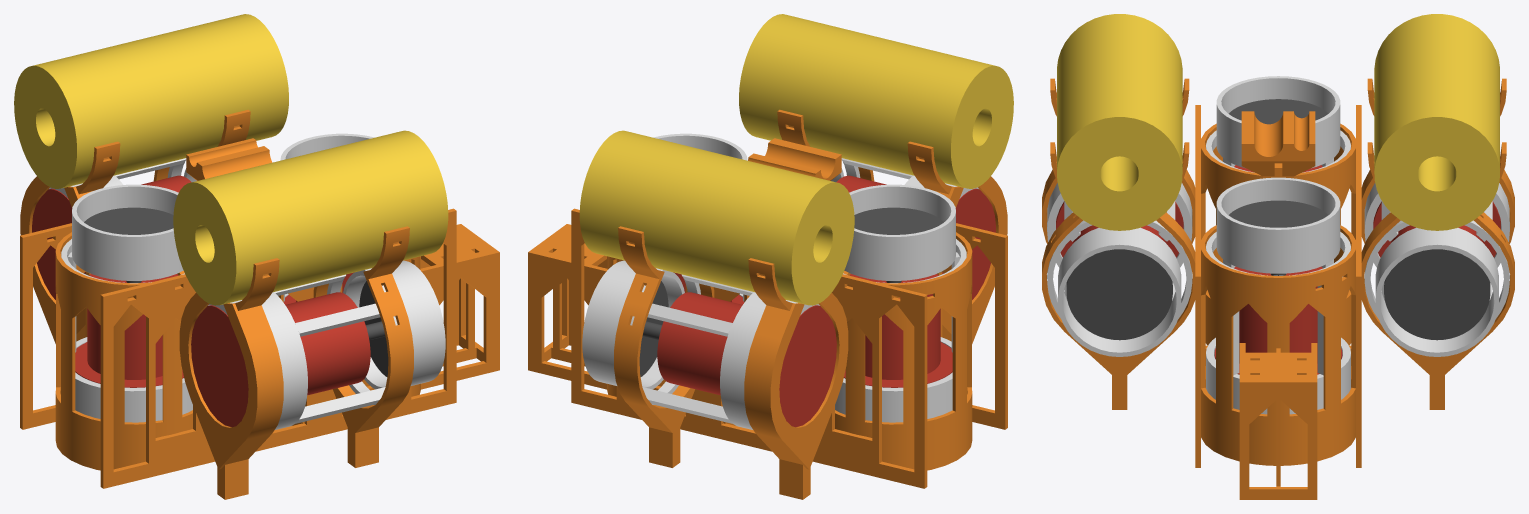
The model's file is rov_v15.glb.
3 renders of one model, left to right at view 1: azimuth 30°, elevation 25°; view 2: azimuth 150°, elevation 25°; view 3: azimuth 270°, elevation 25°, orthographic.
Visible parts, largest first — view 1: frame, noodle_right, noodle_left, pod_right/casing, pod_rear/casing, pod_right/pump_motor, pod_rear/pump_motor, pod_left/pump_motor, pod_rear/prop, pod_right/prop, pod_front/casing, pod_left/casing; view 2: frame, noodle_left, noodle_right, pod_left/casing, pod_rear/casing, pod_left/pump_motor, pod_rear/pump_motor, pod_right/pump_motor, pod_rear/prop, pod_left/prop, pod_front/casing, pod_right/casing; view 3: frame, noodle_left, noodle_right, pod_front/casing, pod_left/casing, pod_right/casing, pod_left/prop, pod_right/prop, pod_rear/casing, pod_front/pump_motor, pod_front/prop, pod_rear/prop (+2 smaller).
Part boxes in pixels (x1,y1,x2,y2): frame: [20, 109, 499, 499]; noodle_right: [173, 130, 448, 305]; noodle_left: [14, 14, 288, 188]; pod_right/casing: [208, 260, 445, 429]; pod_rear/casing: [61, 184, 192, 422]; pod_right/pump_motor: [191, 292, 370, 427]; pod_rear/pump_motor: [75, 274, 183, 387]; pod_left/pump_motor: [32, 175, 191, 299]; pod_rear/prop: [84, 207, 173, 282]; pod_right/prop: [359, 281, 388, 376]; pod_front/casing: [280, 133, 374, 301]; pod_left/casing: [49, 158, 196, 198]; frame: [528, 109, 1007, 499]; noodle_left: [579, 130, 854, 305]; noodle_right: [739, 14, 1013, 188]; pod_left/casing: [582, 260, 819, 429]; pod_rear/casing: [835, 184, 966, 422]; pod_left/pump_motor: [657, 292, 836, 427]; pod_rear/pump_motor: [844, 274, 952, 387]; pod_right/pump_motor: [836, 175, 995, 299]; pod_rear/prop: [854, 207, 943, 282]; pod_left/prop: [639, 281, 668, 376]; pod_front/casing: [653, 133, 747, 301]; pod_right/casing: [831, 158, 978, 198]; frame: [1042, 78, 1514, 499]; noodle_left: [1374, 14, 1499, 230]; noodle_right: [1057, 14, 1182, 230]; pod_front/casing: [1206, 177, 1350, 414]; pod_left/casing: [1364, 183, 1509, 356]; pod_right/casing: [1047, 183, 1192, 356]; pod_left/prop: [1384, 249, 1490, 340]; pod_right/prop: [1066, 249, 1172, 340]; pod_rear/casing: [1206, 76, 1350, 277]; pod_front/pump_motor: [1214, 266, 1342, 374]; pod_front/prop: [1228, 200, 1328, 275]; pod_rear/prop: [1229, 99, 1327, 124].
Size of the model in its own units: 0.249 by 0.1785 by 0.2443.
